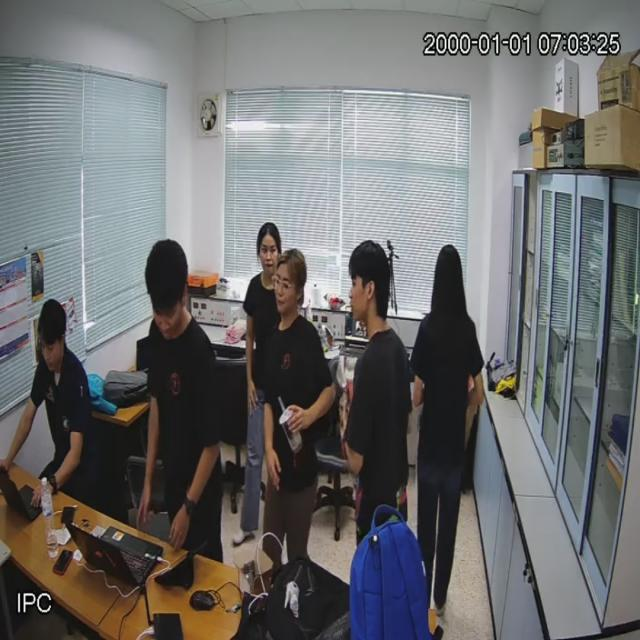normal: (136, 243, 224, 562), (416, 245, 484, 618), (264, 251, 334, 558), (345, 242, 410, 538), (14, 298, 103, 502), (234, 225, 278, 545)
